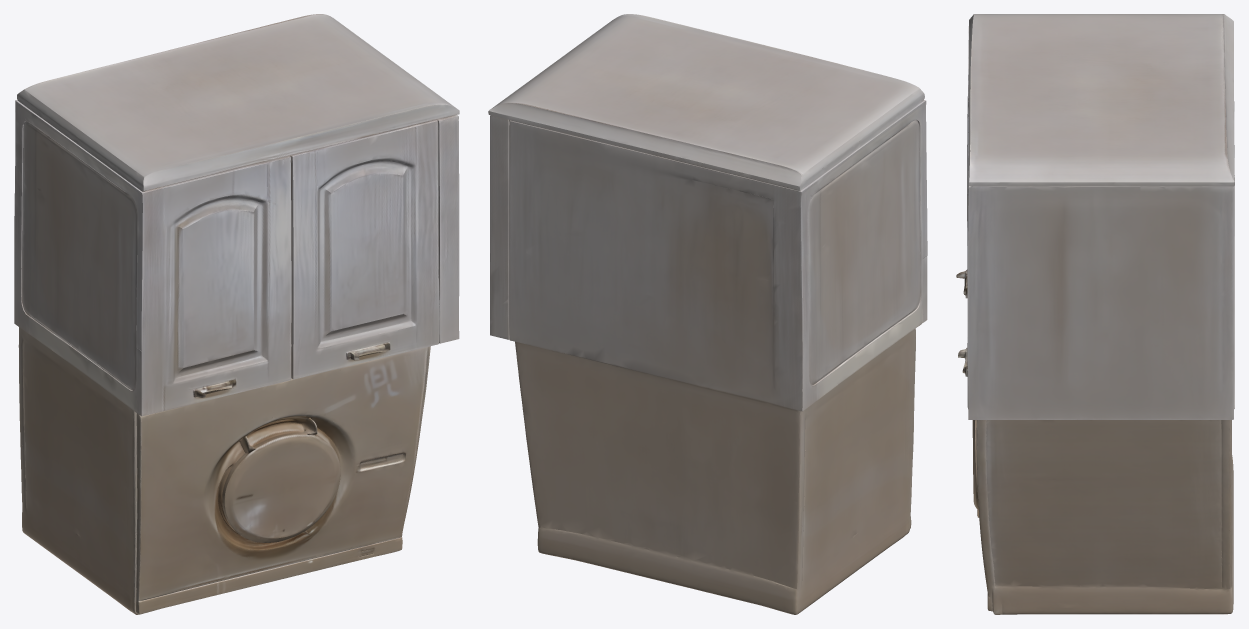
The model's file is base-cabinets-counter.glb.
3 renders of one model, left to right at view 1: azimuth 30°, elevation 25°; view 2: azimuth 150°, elevation 25°; view 3: azimuth 270°, elevation 25°, orthographic. The views are drawn at different scales.
Visible parts, largest first — view 1: model; view 2: model; view 3: model.
Boxes of the visible parts, x1,y1,x2,y2 form: model: (14, 14, 459, 614); model: (488, 14, 927, 614); model: (956, 14, 1234, 614).
Bounding box in the file's own units: 1.39 × 1.88 × 1.01.
1 material, 1 textured.
